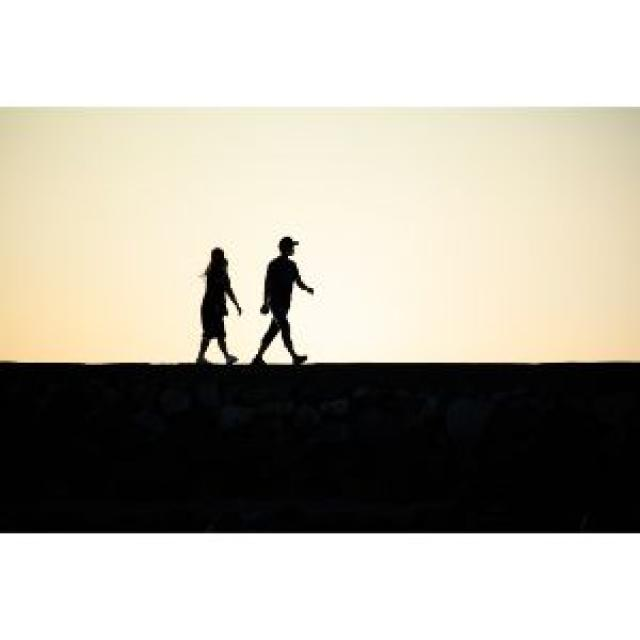nonfall: (252, 232, 328, 370), (165, 231, 239, 361)
